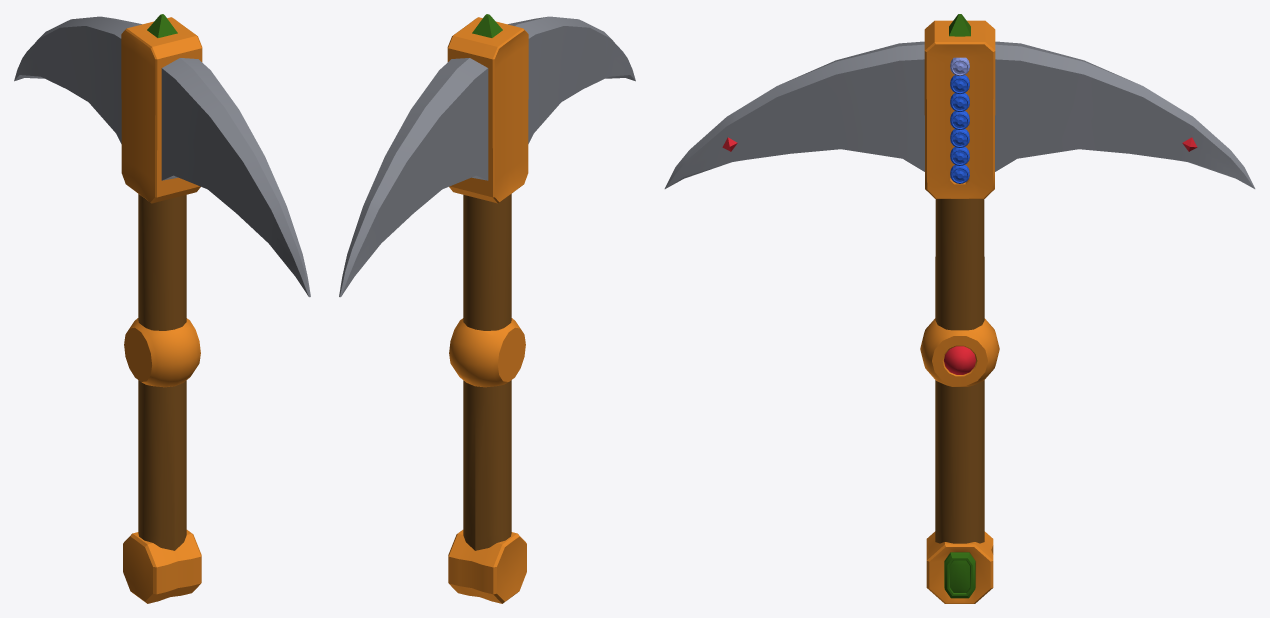
File: Pickaxe_Player.fbx
The picture shows the model from 3 angles, left to right: view 1: azimuth 30°, elevation 25°; view 2: azimuth 150°, elevation 25°; view 3: azimuth 270°, elevation 25°; orthographic projection.
Visible parts, largest first — view 1: Pickaxe; view 2: Pickaxe; view 3: Pickaxe.
Boxes of the visible parts, x1,y1,x2,y2 form: Pickaxe: (14,14,310,603); Pickaxe: (339,14,635,603); Pickaxe: (664,14,1255,603).
Size of the model in its own units: 9.53 by 91.04 by 84.32.
